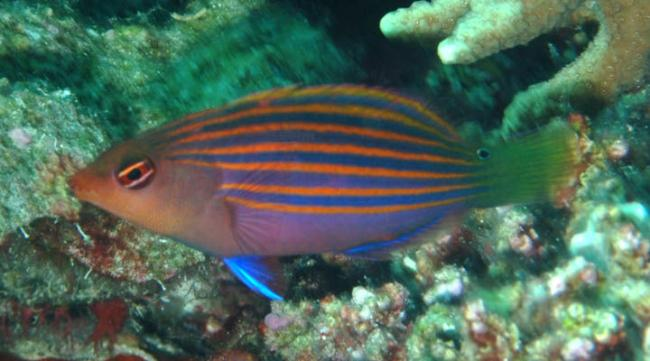fish: (66, 83, 580, 301)
